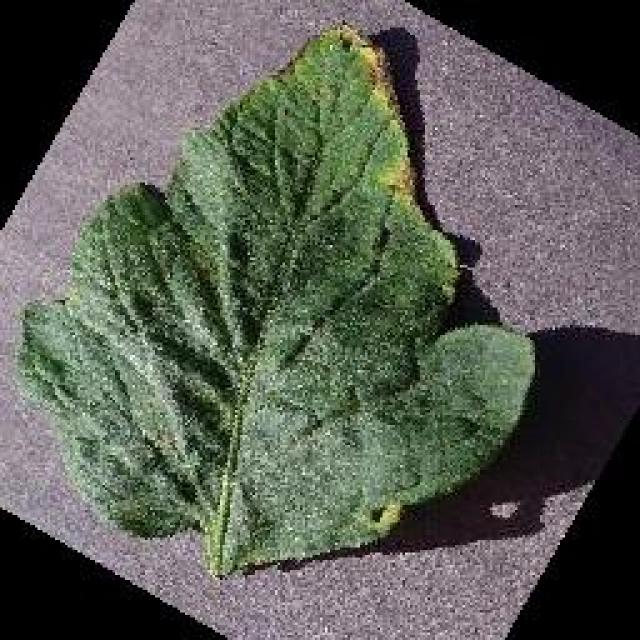Tomato___Target_Spot: (22, 28, 532, 572)
